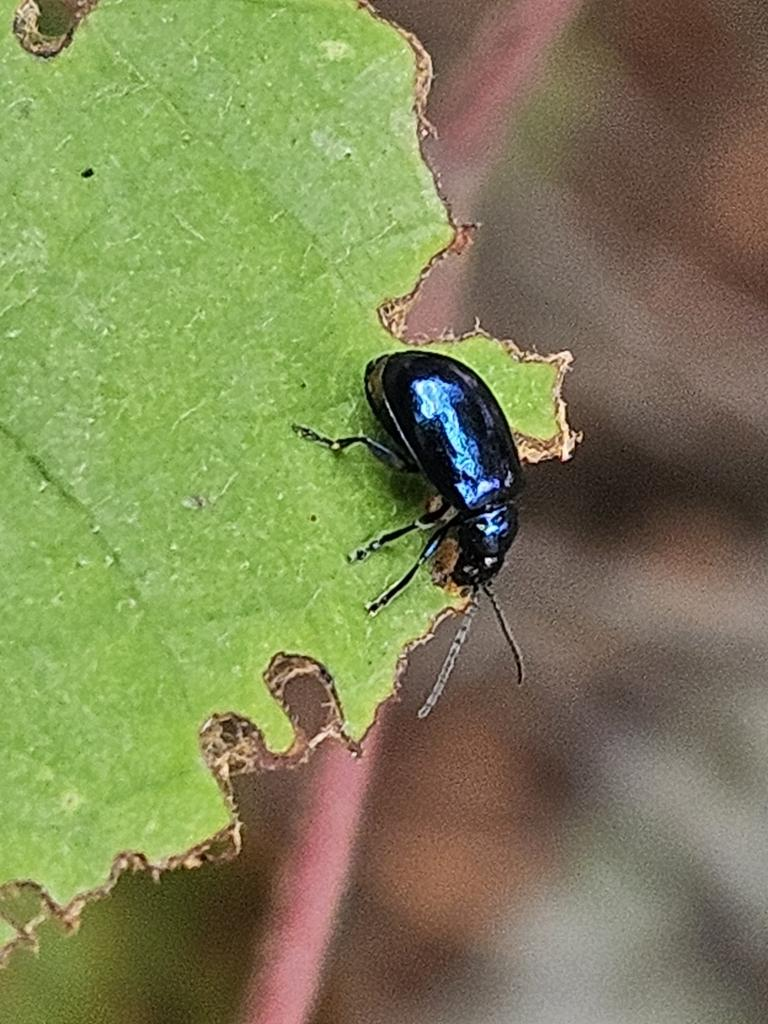flea_beetle: (253, 296, 674, 734)
